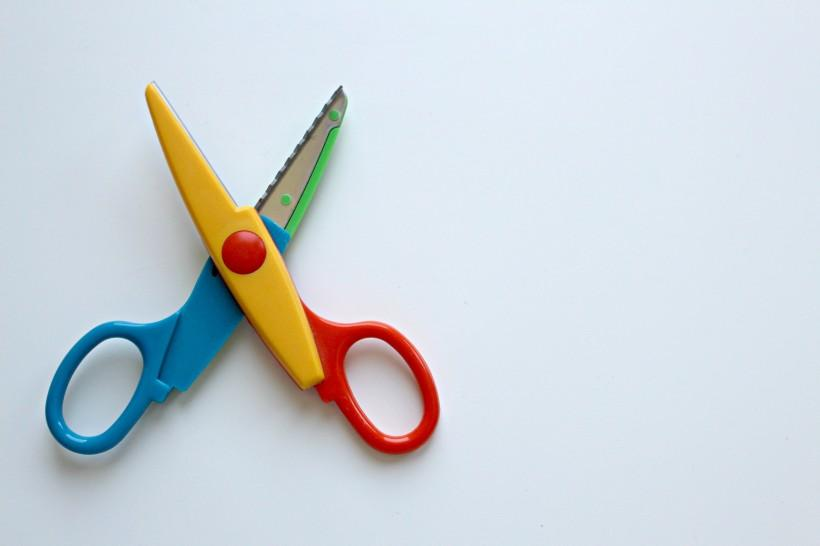scissor: (41, 92, 511, 482)
